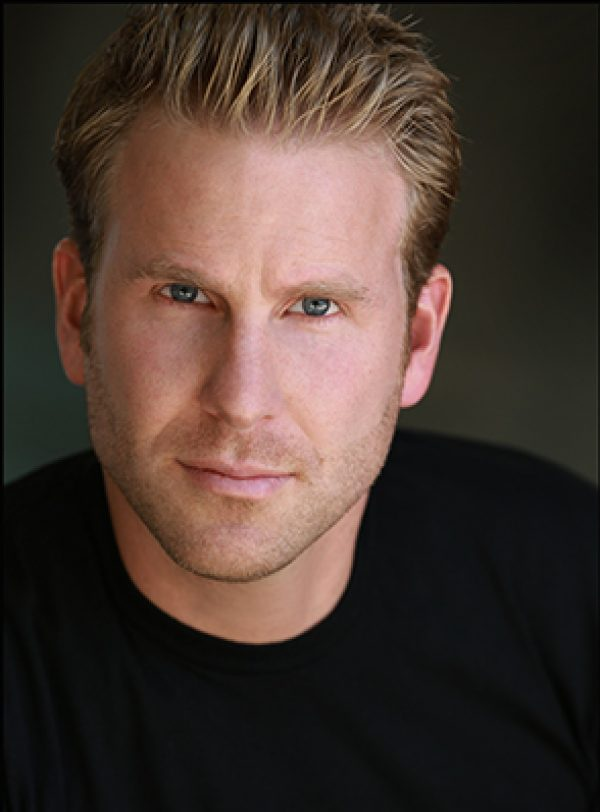bad: (98, 241, 419, 562)
